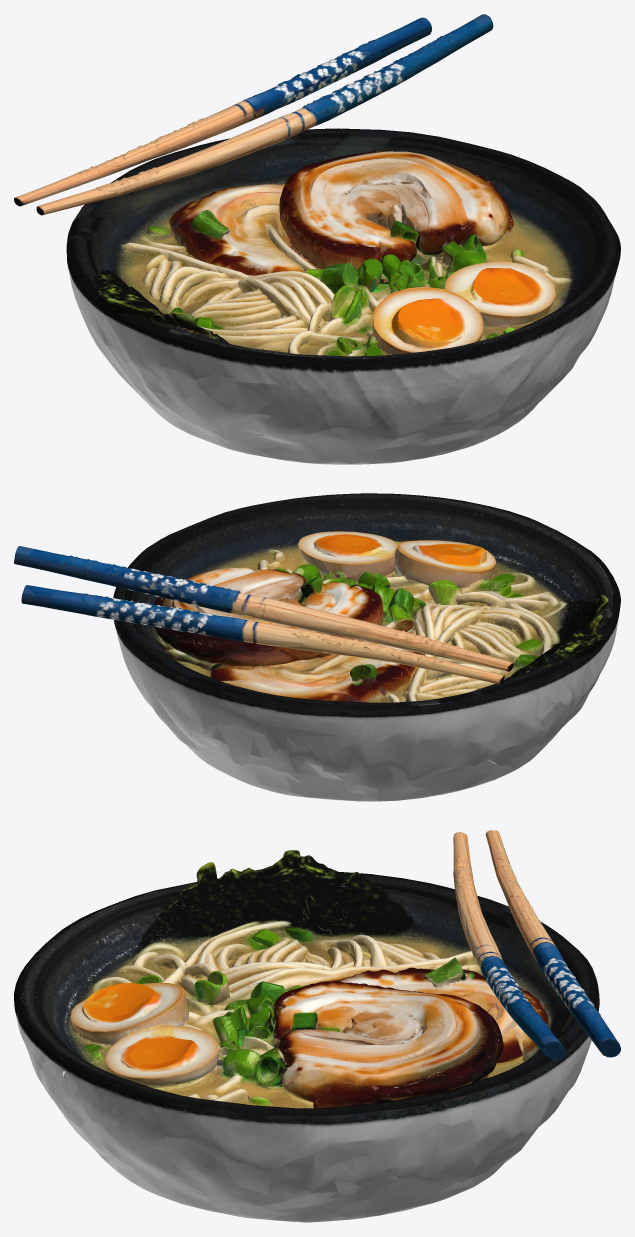
File: ramen.glb
3 renders of one model, top to bottom at view 1: azimuth 30°, elevation 25°; view 2: azimuth 150°, elevation 25°; view 3: azimuth 270°, elevation 25°, orthographic. The views are drawn at different scales.
Bounding box in the file's own units: 1.9 × 0.8214 × 1.86.
1 material, 1 textured.
